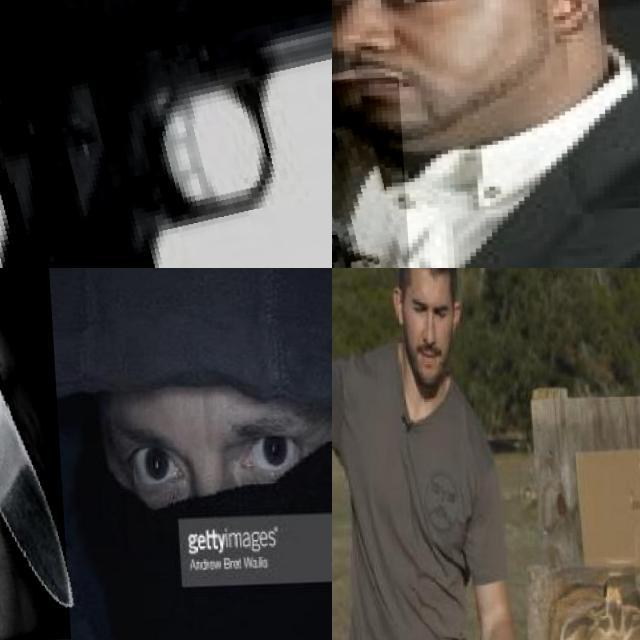-: (0, 268, 89, 640), (332, 537, 373, 640)
gun-knife-thesis - v11 Yolov5 augmented: (0, 0, 332, 268), (332, 79, 470, 268)
